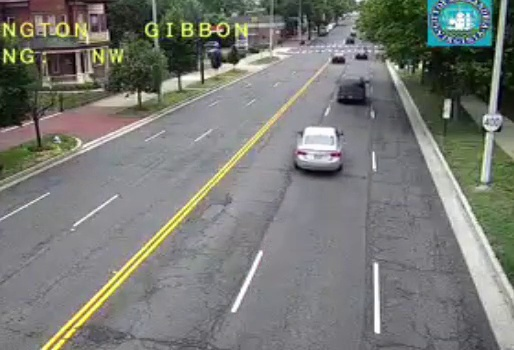car: (295, 127, 341, 171), (337, 75, 366, 103)
